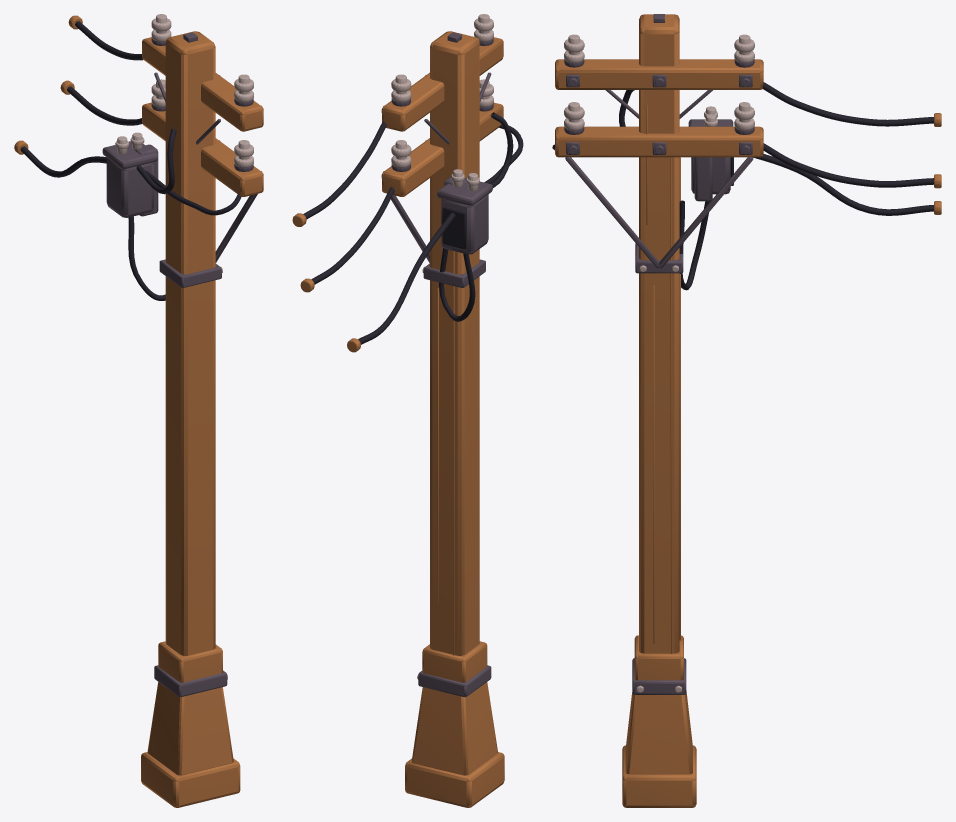
3 views of the same model, side by side, from view 1: azimuth 30°, elevation 25°; view 2: azimuth 150°, elevation 25°; view 3: azimuth 270°, elevation 25° (orthographic). The views are drawn at different scales.
Parts seen in each view (by area): view 1: body, static_asphalt, static_uiDark, static_sidewalk; view 2: body, static_asphalt, static_uiDark, static_sidewalk; view 3: body, static_asphalt, static_uiDark, static_sidewalk.
Part boxes in pixels (box(x1,y1,x2,y2)): body: box(14, 15, 263, 807); static_asphalt: box(102, 32, 263, 697); static_uiDark: box(20, 21, 241, 300); static_sidewalk: box(115, 14, 253, 679); body: box(292, 31, 504, 807); static_asphalt: box(381, 32, 493, 697); static_uiDark: box(303, 112, 523, 344); static_sidewalk: box(391, 14, 493, 679); body: box(555, 14, 941, 807); static_asphalt: box(564, 14, 754, 694); static_uiDark: box(552, 82, 933, 290); static_sidewalk: box(564, 34, 754, 692).
Bounding box in the file's own units: 0.86 × 7.14 × 3.25.
